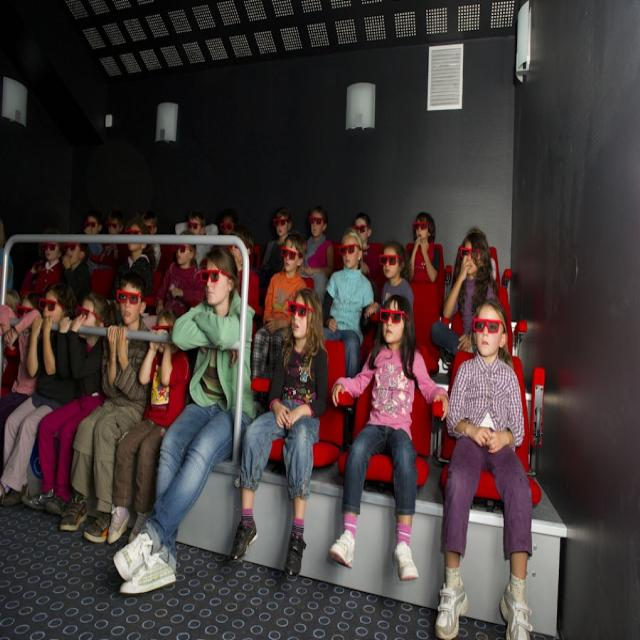body: (111, 238, 258, 598), (323, 293, 449, 584), (432, 296, 537, 639), (229, 286, 329, 582), (57, 268, 154, 555), (106, 307, 191, 546), (25, 292, 109, 515), (0, 280, 77, 507), (250, 230, 309, 424), (429, 224, 500, 357), (320, 230, 375, 379), (0, 291, 41, 478), (442, 226, 498, 354), (108, 214, 154, 326), (108, 214, 158, 308), (29, 241, 92, 314), (155, 230, 207, 318), (362, 237, 414, 324), (256, 207, 294, 315), (88, 210, 130, 302), (299, 205, 335, 302), (334, 210, 384, 276), (228, 228, 260, 331), (0, 219, 18, 384), (19, 240, 66, 300), (403, 211, 441, 284), (175, 210, 220, 270), (82, 212, 106, 274), (215, 213, 237, 237)
